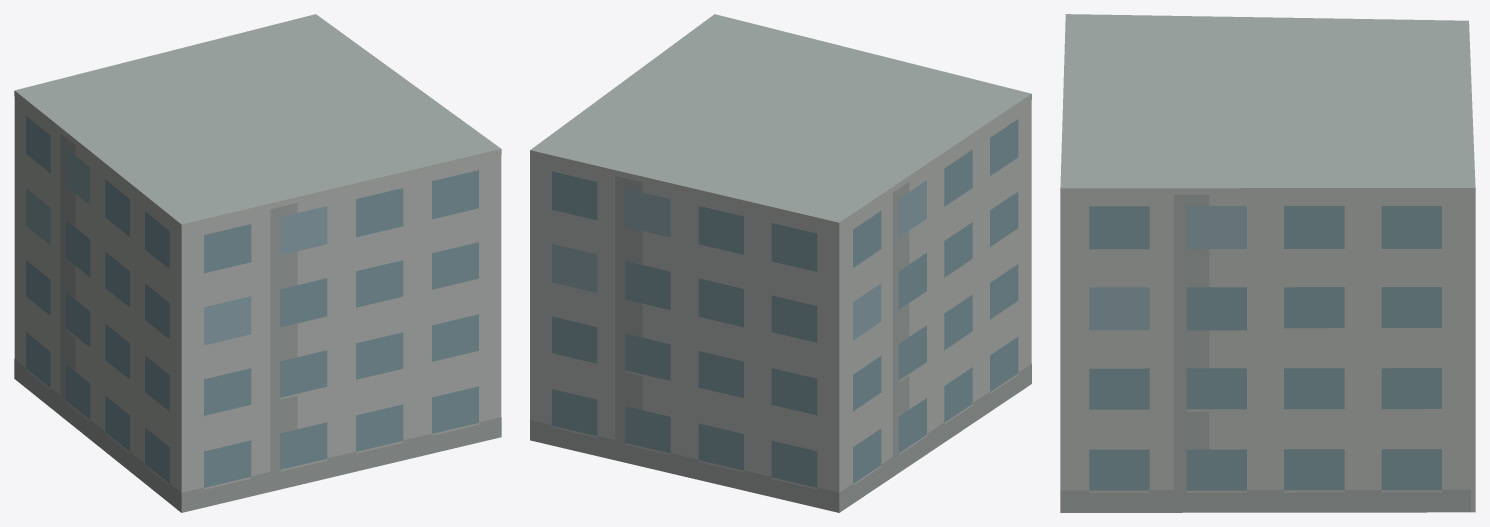
The model's file is survey-upis-32774652.glb.
3 views of the same model, side by side, from view 1: azimuth 30°, elevation 25°; view 2: azimuth 150°, elevation 25°; view 3: azimuth 270°, elevation 25° (orthographic). The views are drawn at different scales.
Visible parts, largest first — view 1: survey-upis-32774652.tmp; view 2: survey-upis-32774652.tmp; view 3: survey-upis-32774652.tmp.
Part boxes in pixels (box(x1,y1,x2,y2)): survey-upis-32774652.tmp: box(14, 14, 501, 512); survey-upis-32774652.tmp: box(530, 14, 1031, 512); survey-upis-32774652.tmp: box(1060, 14, 1475, 512).
Size of the model in its own units: 14.07 by 12.2 by 14.16.
